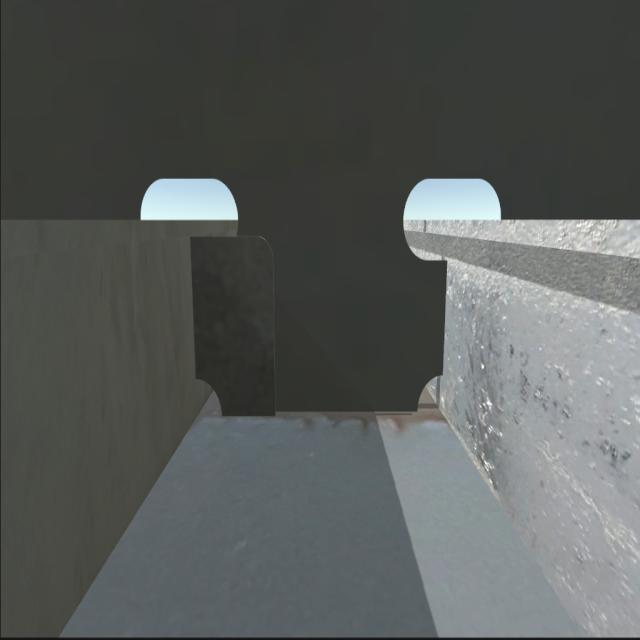fillet_hole: (192, 371, 225, 425), (414, 369, 446, 413)
fillet_yong_jeop_jang: (218, 402, 419, 424)
longi_yong_jeop_jang: (185, 237, 204, 380), (437, 256, 454, 374)
plate_CP05: (189, 237, 277, 420)
